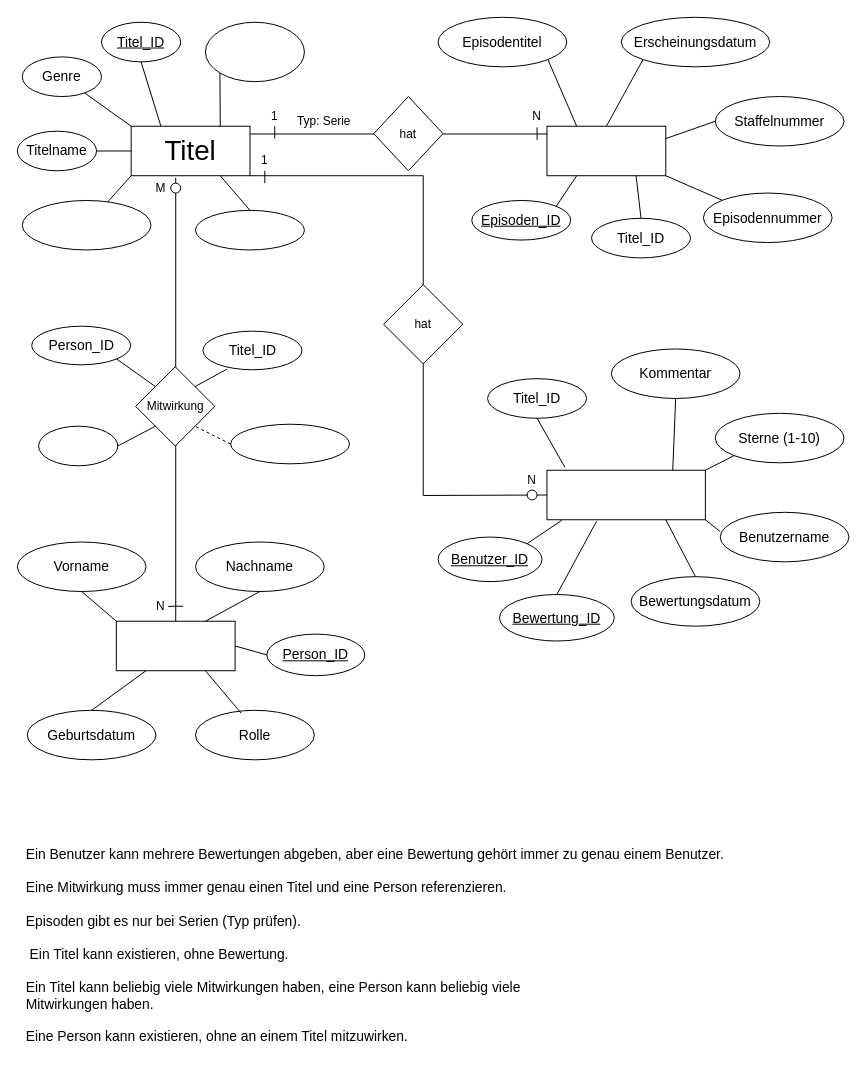
The diagram is 866 pixels wide and 1072 high, and some of its shapes have lost their labels. The shapes that lost their labels are listed below. From the top down, each one's centre as x and y in pixels, then its label:
At point 254,51: "Typ (Film/Serie)".
At point 606,150: "Episode".
At point 86,224: "Erscheinungsjahr".
At point 249,229: "Altersfreigabe".
At point 78,445: "Funktion".
At point 289,443: "Charaktername".
At point 625,494: "Bewertung".
At point 175,645: "Person".
